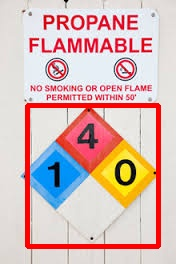nfpa: (27, 105, 158, 246)
